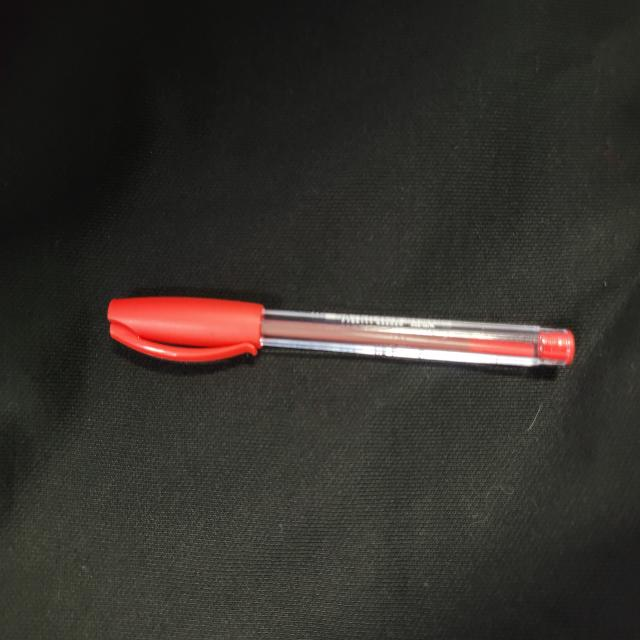caneta: (97, 278, 575, 398)
